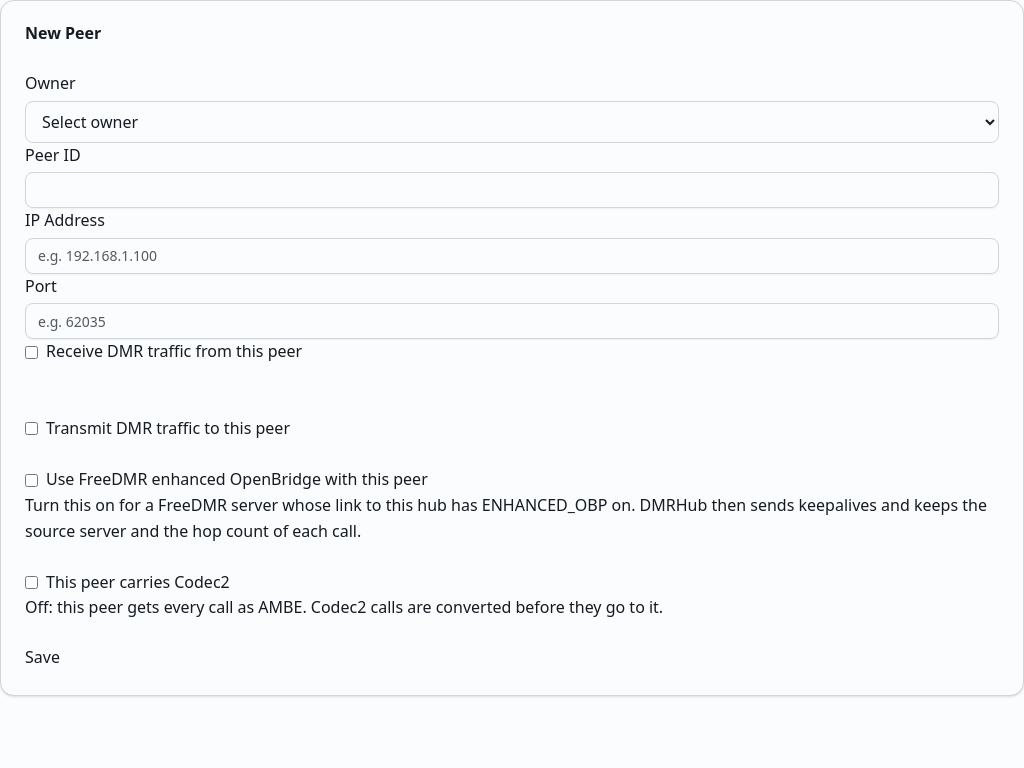
Test: NewOpenBridgePeerPage › has Codec2 off by default and words both states
The width and height of the screenshot is (1024, 768).
Expected: the label "This peer carries Codec2" is shown, [46,570,230,595]
Click the checkbox with id "codec2". click: (32, 582)
box: [25,576,38,589]
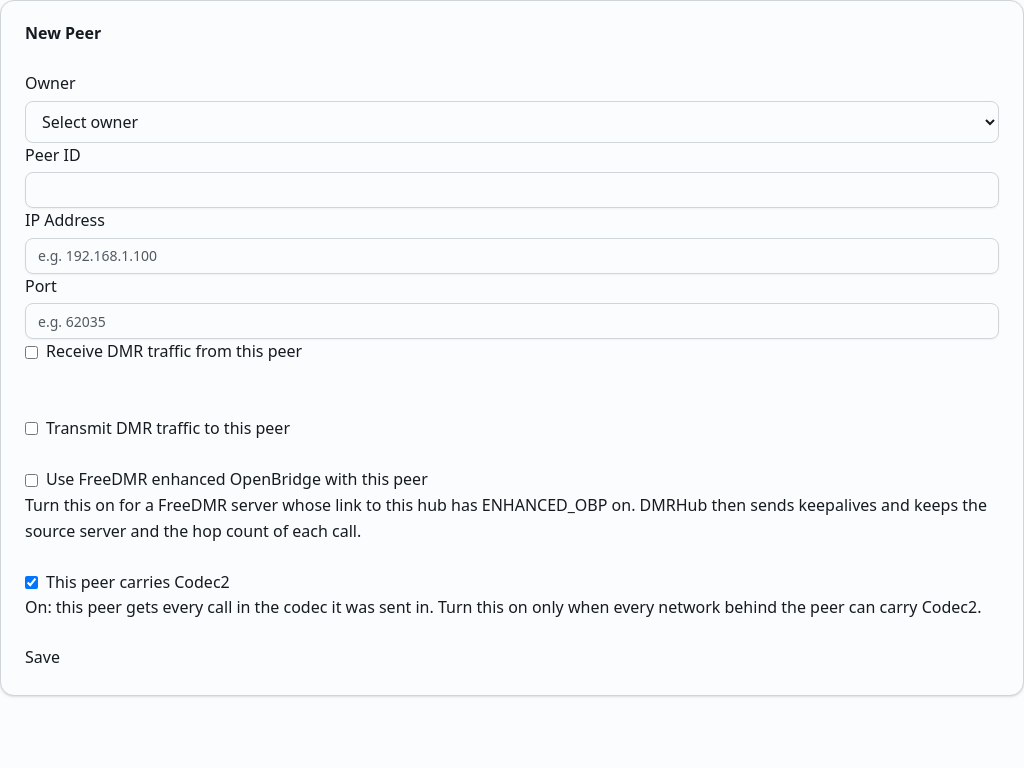
Now the text "On: this peer gets every call in the codec it was sent in. Turn this on only when every network behind the peer can carry Codec2." is shown, box [25,596,982,618]
Now the text "Off: this peer gets every call as AMBE. Codec2 calls are converted before they go to it." is gone
